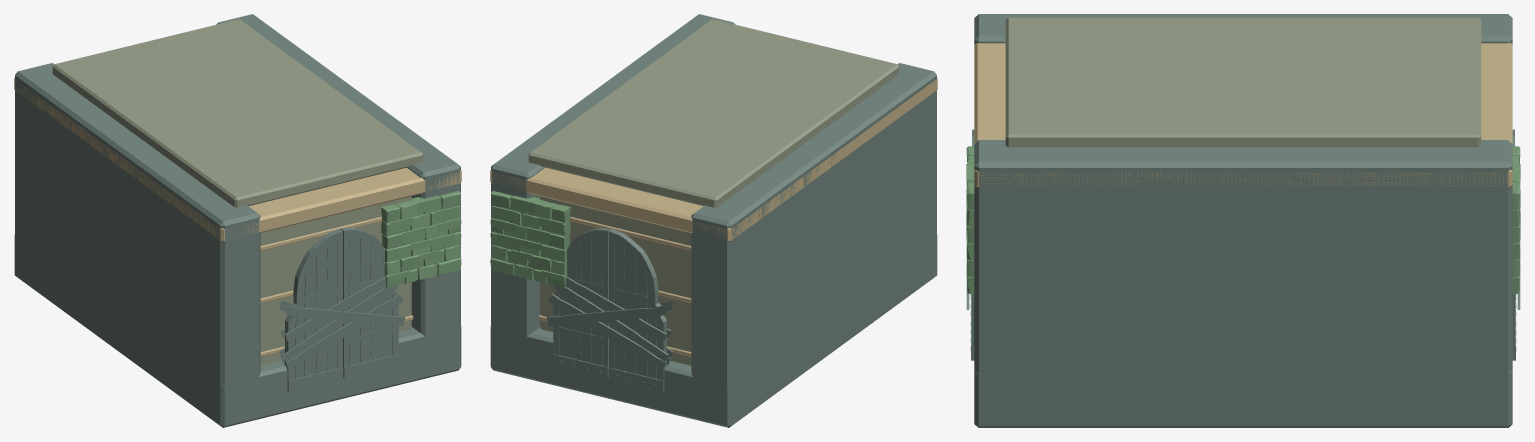
The model's file is temple-gatehouse.glb.
3 renders of one model, left to right at view 1: azimuth 30°, elevation 25°; view 2: azimuth 150°, elevation 25°; view 3: azimuth 270°, elevation 25°, orthographic. The views are drawn at different scales.
Parts seen in each view (by area): view 1: temple_temple_water-stained_stone, temple_temple_weathered_stone, temple_temple_sun_stone, temple_temple_moss; view 2: temple_temple_water-stained_stone, temple_temple_weathered_stone, temple_temple_sun_stone, temple_temple_moss; view 3: temple_temple_water-stained_stone, temple_temple_weathered_stone, temple_temple_sun_stone, temple_temple_moss.
Part boxes in pixels (x1,y1,x2,y2): temple_temple_water-stained_stone: (14, 14, 461, 427); temple_temple_weathered_stone: (52, 19, 423, 365); temple_temple_sun_stone: (14, 78, 461, 356); temple_temple_moss: (381, 191, 461, 288); temple_temple_water-stained_stone: (490, 14, 937, 427); temple_temple_weathered_stone: (528, 19, 899, 365); temple_temple_sun_stone: (490, 78, 937, 356); temple_temple_moss: (490, 191, 570, 288); temple_temple_water-stained_stone: (966, 14, 1520, 427); temple_temple_weathered_stone: (1005, 17, 1481, 147); temple_temple_sun_stone: (974, 42, 1512, 187); temple_temple_moss: (966, 146, 1520, 294).
Size of the model in its own units: 17.36 by 14.85 by 26.83.
